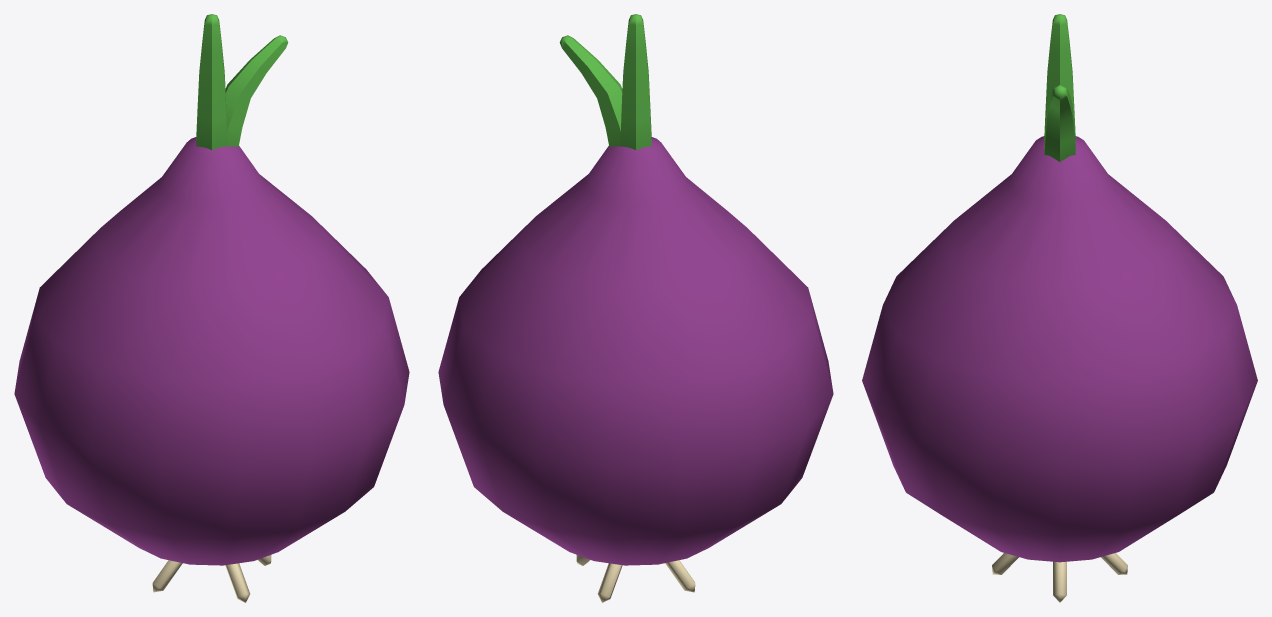
The model's file is P06_Onion.fbx.
The picture shows the model from 3 angles, left to right: view 1: azimuth 30°, elevation 25°; view 2: azimuth 150°, elevation 25°; view 3: azimuth 270°, elevation 25°; orthographic projection.
Parts seen in each view (by area): view 1: P06_Onion; view 2: P06_Onion; view 3: P06_Onion.
Boxes of the visible parts, box(x1,y1,x2,y2) form: P06_Onion: box(14, 14, 409, 602); P06_Onion: box(438, 14, 833, 602); P06_Onion: box(862, 14, 1257, 602).
Bounding box in the file's own units: 0.38 × 0.5932 × 0.38.
